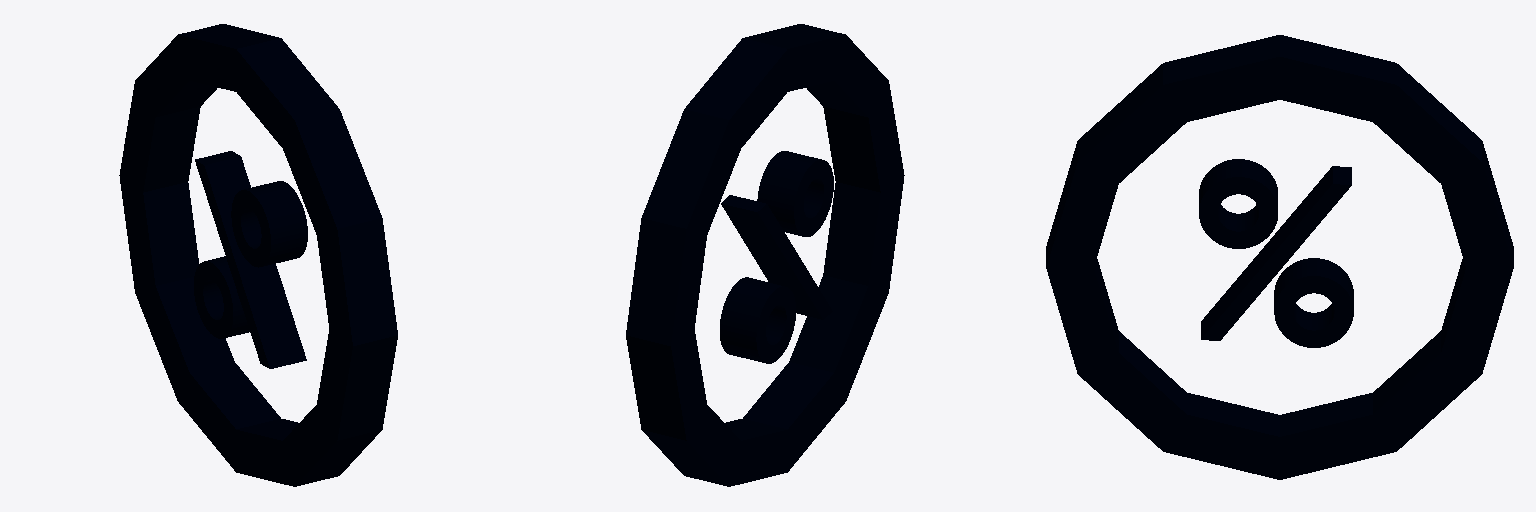
File: artifact_divide.obj
3 views of the same model, side by side, from view 1: azimuth 30°, elevation 25°; view 2: azimuth 150°, elevation 25°; view 3: azimuth 270°, elevation 25° (orthographic).
Parts seen in each view (by area): view 1: Text_Mesh; view 2: Text_Mesh; view 3: Text_Mesh.
Part boxes in pixels (x1,y1,x2,y2): Text_Mesh: (119,24,397,486); Text_Mesh: (626,24,904,486); Text_Mesh: (1046,35,1513,479).
Size of the model in its own units: 0.9702 by 7.73 by 7.73.